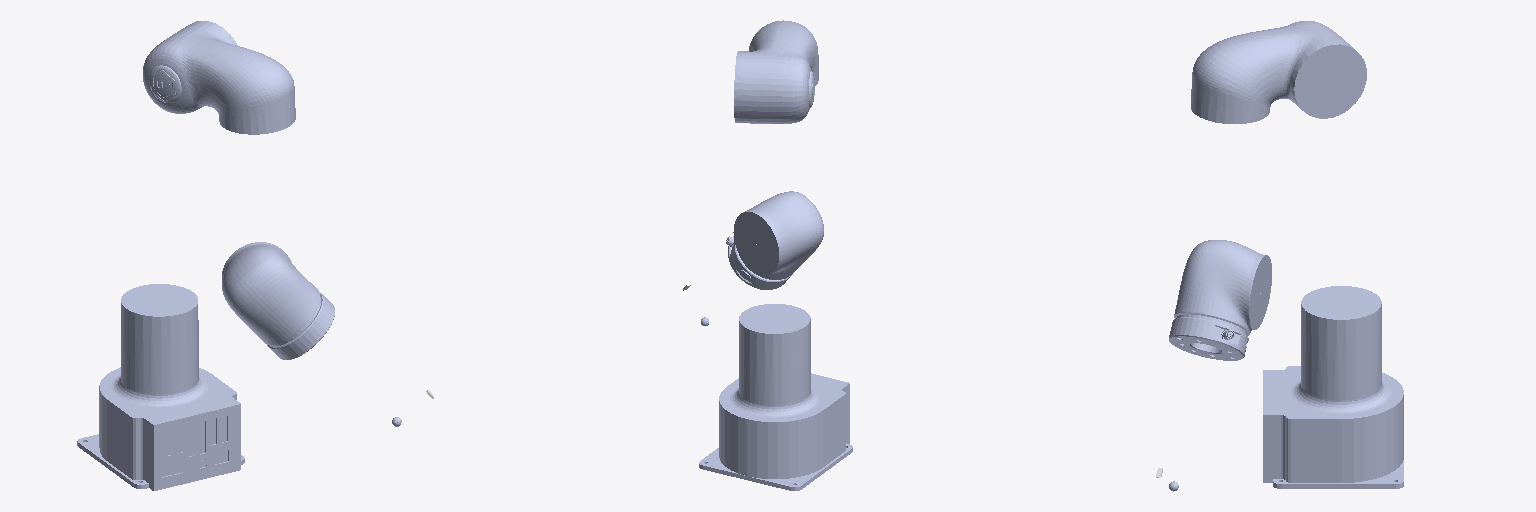
URDF robot description (Lite6SW2):
<?xml version="1.0" encoding="utf-8"?>
<!-- This URDF was automatically created by SolidWorks to URDF Exporter! Originally created by [author] ([email redacted]) 
     Commit Version: 1.6.0-1-g15f4949  Build Version: 1.6.7594.29634
     For more information, please see http://wiki.ros.org/sw_urdf_exporter -->
<robot
  name="Lite6SW2">
  <link
    name="Link0">
    <inertial>
      <origin
        xyz="0.0187322287468848 -6.56268388412886E-05 -0.0018327007667883"
        rpy="0 0 0" />
      <mass
        value="1.65199774001772" />
      <inertia
        ixx="0.00540779041066965"
        ixy="-1.72431674672114E-07"
        ixz="-8.16857492340844E-08"
        iyy="0.0050429459667963"
        iyz="-0.000338002907863305"
        izz="0.00334480903849763" />
    </inertial>
    <visual>
      <origin
        xyz="0 0 0"
        rpy="0 0 0" />
      <geometry>
        <mesh
          filename="package://Lite6SW2/meshes/Link0.STL" />
      </geometry>
      <material
        name="">
        <color
          rgba="0.792156862745098 0.819607843137255 0.933333333333333 1" />
      </material>
    </visual>
    <collision>
      <origin
        xyz="0 0 0"
        rpy="0 0 0" />
      <geometry>
        <mesh
          filename="package://Lite6SW2/meshes/Link0.STL" />
      </geometry>
    </collision>
  </link>
  <link
    name="Link1">
    <inertial>
      <origin
        xyz="0.0151275932238549 0.0579204493545035 2.19551584875691E-06"
        rpy="0 0 0" />
      <mass
        value="0.768991147574956" />
      <inertia
        ixx="0.000943626498667019"
        ixy="-0.000157292714284293"
        ixz="2.15996612593555E-07"
        iyy="0.00109494607083285"
        iyz="-2.22121831785138E-07"
        izz="0.00140822699612183" />
    </inertial>
    <visual>
      <origin
        xyz="0 0 0"
        rpy="0 0 0" />
      <geometry>
        <mesh
          filename="package://Lite6SW2/meshes/Link1.STL" />
      </geometry>
      <material
        name="">
        <color
          rgba="0.792156862745098 0.819607843137255 0.933333333333333 1" />
      </material>
    </visual>
    <collision>
      <origin
        xyz="0 0 0"
        rpy="0 0 0" />
      <geometry>
        <mesh
          filename="package://Lite6SW2/meshes/Link1.STL" />
      </geometry>
    </collision>
  </link>
  <joint
    name="Joint1"
    type="revolute">
    <origin
      xyz="0.01873370459204 0.00814213077337103 0.108012813287898"
      rpy="1.5707963267949 0 0.4446615678785" />
    <parent
      link="Link0" />
    <child
      link="Link1" />
    <axis
      xyz="0 1 0" />
    <limit
      lower="-3.14"
      upper="3.14"
      effort="87"
      velocity="1" />
  </joint>
  <link
    name="Link2">
    <inertial>
      <origin
        xyz="0.0393674312059471 0.114689083476682 -1.16044806437732E-07"
        rpy="0 0 0" />
      <mass
        value="1.07641986433027" />
      <inertia
        ixx="0.00746475214661092"
        ixy="0.000698701711095762"
        ixz="1.87680189054837E-09"
        iyy="0.00101416666242391"
        iyz="2.16807495952089E-08"
        izz="0.0076258806756479" />
    </inertial>
    <visual>
      <origin
        xyz="0 0 0"
        rpy="0 0 0" />
      <geometry>
        <mesh
          filename="package://Lite6SW2/meshes/Link2.STL" />
      </geometry>
      <material
        name="">
        <color
          rgba="0.792156862745098 0.819607843137255 0.933333333333333 1" />
      </material>
    </visual>
    <collision>
      <origin
        xyz="0 0 0"
        rpy="0 0 0" />
      <geometry>
        <mesh
          filename="package://Lite6SW2/meshes/Link2.STL" />
      </geometry>
    </collision>
  </link>
  <joint
    name="Joint2"
    type="revolute">
    <origin
      xyz="0.0634024303578008 0.0700027545007157 0"
      rpy="0.166849117202446 0 0" />
    <parent
      link="Link1" />
    <child
      link="Link2" />
    <axis
      xyz="1 0 0" />
    <limit
      lower="-3.14"
      upper="3.14"
      effort="87"
      velocity="1" />
  </joint>
  <link
    name="Link3">
    <inertial>
      <origin
        xyz="-0.0609958261995253 -0.0374546172672344 -0.000573221171941529"
        rpy="0 0 0" />
      <mass
        value="0.765154285498414" />
      <inertia
        ixx="0.00178429539911025"
        ixy="-9.39526332109624E-05"
        ixz="4.19008160447528E-06"
        iyy="0.000627175753759267"
        iyz="-6.64736636610338E-05"
        izz="0.00183654237180399" />
    </inertial>
    <visual>
      <origin
        xyz="0 0 0"
        rpy="0 0 0" />
      <geometry>
        <mesh
          filename="package://Lite6SW2/meshes/Link3.STL" />
      </geometry>
      <material
        name="">
        <color
          rgba="0.792156862745098 0.819607843137255 0.933333333333333 1" />
      </material>
    </visual>
    <collision>
      <origin
        xyz="0 0 0"
        rpy="0 0 0" />
      <geometry>
        <mesh
          filename="package://Lite6SW2/meshes/Link3.STL" />
      </geometry>
    </collision>
  </link>
  <joint
    name="Joint3"
    type="revolute">
    <origin
      xyz="0 0.199999999987166 0"
      rpy="-1.79231046331988 0 0" />
    <parent
      link="Link2" />
    <child
      link="Link3" />
    <axis
      xyz="1 0 0" />
    <limit
      lower="-3.14"
      upper="3.14"
      effort="87"
      velocity="1" />
  </joint>
  <link
    name="Link4">
    <inertial>
      <origin
        xyz="0.0251920501140432 -6.41817619190244E-07 -0.0959447863668743"
        rpy="0 0 0" />
      <mass
        value="1.19946358045584" />
      <inertia
        ixx="0.00242244309778775"
        ixy="-2.18181320849249E-08"
        ixz="0.000758521584574718"
        iyy="0.00315206957190798"
        iyz="2.52477601872585E-09"
        izz="0.00172762941740964" />
    </inertial>
    <visual>
      <origin
        xyz="0 0 0"
        rpy="0 0 0" />
      <geometry>
        <mesh
          filename="package://Lite6SW2/meshes/Link4.STL" />
      </geometry>
      <material
        name="">
        <color
          rgba="0.792156862745098 0.819607843137255 0.933333333333333 1" />
      </material>
    </visual>
    <collision>
      <origin
        xyz="0 0 0"
        rpy="0 0 0" />
      <geometry>
        <mesh
          filename="package://Lite6SW2/meshes/Link4.STL" />
      </geometry>
    </collision>
  </link>
  <joint
    name="Joint4"
    type="revolute">
    <origin
      xyz="-0.063102409341005 -0.0870000000340598 -0.0367635042013723"
      rpy="0 0 0.821810771980739" />
    <parent
      link="Link3" />
    <child
      link="Link4" />
    <axis
      xyz="0 0 1" />
    <limit
      lower="-3.14"
      upper="3.14"
      effort="87"
      velocity="1" />
  </joint>
  <link
    name="Link5">
    <inertial>
      <origin
        xyz="0.00343463057873998 -1.97179458061303E-06 -0.00164401922371229"
        rpy="0 0 0" />
      <mass
        value="0.407452669039166" />
      <inertia
        ixx="0.000358680591599888"
        ixy="-1.00900293705433E-08"
        ixz="-6.27685977104768E-06"
        iyy="0.000380454223401458"
        iyz="9.57050468134867E-09"
        izz="0.000334589727767483" />
    </inertial>
    <visual>
      <origin
        xyz="0 0 0"
        rpy="0 0 0" />
      <geometry>
        <mesh
          filename="package://Lite6SW2/meshes/Link5.STL" />
      </geometry>
      <material
        name="">
        <color
          rgba="0.792156862745098 0.819607843137255 0.933333333333333 1" />
      </material>
    </visual>
    <collision>
      <origin
        xyz="0 0 0"
        rpy="0 0 0" />
      <geometry>
        <mesh
          filename="package://Lite6SW2/meshes/Link5.STL" />
      </geometry>
    </collision>
  </link>
  <joint
    name="Joint5"
    type="revolute">
    <origin
      xyz="0 0 -0.190346492889003"
      rpy="-0.670253176766057 0 0" />
    <parent
      link="Link4" />
    <child
      link="Link5" />
    <axis
      xyz="1 0 0" />
    <limit
      lower="-3.14"
      upper="3.14"
      effort="12"
      velocity="1" />
  </joint>
  <link
    name="Link6">
    <inertial>
      <origin
        xyz="-0.000205287529503467 -0.000431985584820965 -0.0521159158328269"
        rpy="0 0 0" />
      <mass
        value="0.0844258078209592" />
      <inertia
        ixx="3.65814863001815E-05"
        ixy="-2.96217183969856E-08"
        ixz="3.62773534330074E-08"
        iyy="3.631438997443E-05"
        iyz="-6.16706110817399E-08"
        izz="6.56234046220339E-05" />
    </inertial>
    <visual>
      <origin
        xyz="0 0 0"
        rpy="0 0 0" />
      <geometry>
        <mesh
          filename="package://Lite6SW2/meshes/Link6.STL" />
      </geometry>
      <material
        name="">
        <color
          rgba="0.792156862745098 0.819607843137255 0.933333333333333 1" />
      </material>
    </visual>
    <collision>
      <origin
        xyz="0 0 0"
        rpy="0 0 0" />
      <geometry>
        <mesh
          filename="package://Lite6SW2/meshes/Link6.STL" />
      </geometry>
    </collision>
  </link>
  <joint
    name="Joint6"
    type="revolute">
    <origin
      xyz="0 0 0"
      rpy="0 0 2.30520604102373" />
    <parent
      link="Link5" />
    <child
      link="Link6" />
    <axis
      xyz="0 0 1" />
    <limit
      lower="-3.14"
      upper="3.14"
      effort="12"
      velocity="1" />
  </joint>
  <link
    name="Link_hand">
    <inertial>
      <origin
        xyz="0.0108713499627958 0.124749513433011 0.161319806956366"
        rpy="0 0 0" />
      <mass
        value="2.83243689369596E-05" />
      <inertia
        ixx="2.6242801210731E-08"
        ixy="2.44461258450615E-10"
        ixz="-1.93357940811343E-10"
        iyy="3.26967390920057E-08"
        iyz="1.55614561490651E-09"
        izz="5.63666155419609E-08" />
    </inertial>
    <visual>
      <origin
        xyz="0 0 0"
        rpy="0 0 0" />
      <geometry>
        <mesh
          filename="package://Lite6SW2/meshes/Link_hand.STL" />
      </geometry>
      <material
        name="">
        <color
          rgba="0.776470588235294 0.756862745098039 0.737254901960784 1" />
      </material>
    </visual>
    <collision>
      <origin
        xyz="0 0 0"
        rpy="0 0 0" />
      <geometry>
        <mesh
          filename="package://Lite6SW2/meshes/Link_hand.STL" />
      </geometry>
    </collision>
  </link>
  <joint
    name="Jointhand"
    type="fixed">
    <origin
      xyz="-0.14399 -0.11062 -0.0009206"
      rpy="-1.5708 0 -0.85704" />
    <parent
      link="Link6" />
    <child
      link="Link_hand" />
    <axis
      xyz="0 0 0" />
    <limit
      lower="0"
      effort="0"
      velocity="0" />
  </joint>
  <link
    name="F1">
    <inertial>
      <origin
        xyz="-0.051842 0.1974 0.18027"
        rpy="0 0 0" />
      <mass
        value="0.021571" />
      <inertia
        ixx="6.777E-06"
        ixy="-1.3957E-06"
        ixz="-6.2093E-12"
        iyy="1.9659E-06"
        iyz="-5.4282E-12"
        izz="6.4615E-06" />
    </inertial>
    <visual>
      <origin
        xyz="0 0 0"
        rpy="0 0 0" />
      <geometry>
        <mesh
          filename="package://Lite6SW2/meshes/F1.STL" />
      </geometry>
      <material
        name="">
        <color
          rgba="0.49804 0.49804 0.49804 1" />
      </material>
    </visual>
    <collision>
      <origin
        xyz="0 0 0"
        rpy="0 0 0" />
      <geometry>
        <mesh
          filename="package://Lite6SW2/meshes/F1.STL" />
      </geometry>
    </collision>
  </link>
  <joint
    name="Joint_f1"
    type="prismatic">
    <origin
      xyz="0.01 0 0"
      rpy="0 0 0" />
    <parent
      link="Link_hand" />
    <child
      link="F1" />
    <axis
      xyz="1 0 0" />
    <limit
      lower="0"
      upper="0.04"
      effort="200"
      velocity="0.1" />
    <dynamics
      friction="1" damping="10.0" />
  </joint>
  <link
    name="F1point">
    <inertial>
      <origin
        xyz="4.35484981409218E-14 -6.43846087555744E-13 0.00100000000035735"
        rpy="0 0 0" />
      <mass
        value="0.0001" />
      <inertia
        ixx="2.41666666666667E-10"
        ixy="-3.42504472385238E-25"
        ixz="8.17487089749672E-25"
        iyy="8.66666666666669E-10"
        iyz="-1.43732971188745E-21"
        izz="1.04166666666667E-09" />
    </inertial>
    <visual>
      <origin
        xyz="0 0 0"
        rpy="0 0 0" />
      <geometry>
        <mesh
          filename="package://Lite6SW2/meshes/F1point.STL" />
      </geometry>
      <material
        name="">
        <color
          rgba="1 1 1 1" />
      </material>
    </visual>
    <collision>
      <geometry>
        <box size="0.013 0.013 0.004"/>
      </geometry>
    </collision>
  </link>
  <joint
    name="f1_pjoint"
    type="fixed">
    <origin
      xyz="-0.0437490031135737 0.208719338742205 0.180271456819914"
      rpy="1.5707963267949 0 -1.5707963267949" />
    <parent
      link="F1" />
    <child
      link="F1point" />
    <axis
      xyz="0 0 0" />
  </joint>
  <link
    name="F2">
    <inertial>
      <origin
        xyz="0.052983 0.1974 0.18027"
        rpy="0 0 0" />
      <mass
        value="0.021571" />
      <inertia
        ixx="6.7769E-06"
        ixy="1.3956E-06"
        ixz="5.3583E-12"
        iyy="1.9659E-06"
        iyz="-8.9468E-13"
        izz="6.4615E-06" />
    </inertial>
    <visual>
      <origin
        xyz="0 0 0"
        rpy="0 0 0" />
      <geometry>
        <mesh
          filename="package://Lite6SW2/meshes/F2.STL" />
      </geometry>
      <material
        name="">
        <color
          rgba="0.49804 0.49804 0.49804 1" />
      </material>
    </visual>
    <collision>
      <origin
        xyz="0 0 0"
        rpy="0 0 0" />
      <geometry>
        <mesh
          filename="package://Lite6SW2/meshes/F2.STL" />
      </geometry>
    </collision>
  </link>
  <joint
    name="Joint_f2"
    type="prismatic">
    <origin
      xyz="0.01 0 0"
      rpy="0 0 0" />
    <parent
      link="Link_hand" />
    <child
      link="F2" />
    <axis
      xyz="-1 0 0" />
    <limit
      lower="0"
      upper="0.04"
      effort="200"
      velocity="0.1" />
    <dynamics
       damping="10.0" />
    <mimic
      joint="Joint_f1"
      multiplier="1"
      offset="0" />
  </joint>
  <link
    name="F2point">
    <inertial>
      <origin
        xyz="4.3493E-14 -1.0085E-13 0.001"
        rpy="0 0 0" />
      <mass
        value="0.0001" />
      <inertia
        ixx="2.4167E-10"
        ixy="6.3008E-25"
        ixz="-1.3086E-25"
        iyy="8.6667E-10"
        iyz="-1.4375E-21"
        izz="1.0417E-09" />
    </inertial>
    <visual>
      <origin
        xyz="0 0 0"
        rpy="0 0 0" />
      <geometry>
        <mesh
          filename="package://Lite6SW2/meshes/F2point.STL" />
      </geometry>
      <material
        name="">
        <color
          rgba="1 1 1 1" />
      </material>
    </visual>
    <collision>
      <geometry>
        <box size="0.013 0.013 0.004"/>
      </geometry>
    </collision>
  </link>
  <joint
    name="f2_pjoint"
    type="fixed">
    <origin
      xyz="0.0448895317964781 0.208719338742198 0.180271456819914"
      rpy="-1.5707963267949 0 -1.57079632679494" />
    <parent
      link="F2" />
    <child
      link="F2point" />
    <axis
      xyz="0 0 0" />
  </joint>
  <link
    name="GripSite">
    <inertial>
      <origin
        xyz="-0.0029855 0.0036098 -0.0012806"
        rpy="0 0 0" />
      <mass
        value="0.0005236" />
      <inertia
        ixx="5.236E-09"
        ixy="-1.9387E-26"
        ixz="-5.1699E-26"
        iyy="5.236E-09"
        iyz="-7.7548E-26"
        izz="5.236E-09" />
    </inertial>
    <visual>
      <origin
        xyz="0 0 0"
        rpy="0 0 0" />
      <geometry>
        <mesh
          filename="package://Lite6SW2/meshes/GripSite.STL" />
      </geometry>
      <material
        name="">
        <color
          rgba="0.79216 0.81961 0.93333 1" />
      </material>
    </visual>
  </link>
  <joint
    name="gripjoint"
    type="fixed">
    <origin
      xyz="0.010713 0.21358 0.18077"
      rpy="-0.12166 0.51995 2.3544" />
    <parent
      link="Link_hand" />
    <child
      link="GripSite" />
    <axis
      xyz="0 0 0" />
  </joint>
</robot>

--- Facts derived from the render (not from the file) ---
The picture shows the robot from 3 angles, left to right: view 1: azimuth 30°, elevation 25°; view 2: azimuth 150°, elevation 25°; view 3: azimuth 270°, elevation 25°; orthographic projection.
Robot: Lite6SW2 — 13 links, 12 joints (6 revolute, 2 prismatic, 4 fixed); root link Link0; default pose: every joint at zero.
Visible links, largest first — view 1: Link0, Link3, Link5, Link6; view 2: Link0, Link3, Link5, Link6; view 3: Link0, Link3, Link5, Link6.
Boxes of the visible links, box(x1,y1,x2,y2) form: Link0: box(77, 284, 244, 490); Link3: box(143, 21, 295, 134); Link5: box(222, 242, 320, 345); Link6: box(267, 293, 334, 359); Link0: box(699, 304, 852, 490); Link3: box(734, 20, 818, 123); Link5: box(733, 191, 823, 279); Link6: box(726, 236, 792, 289); Link0: box(1263, 286, 1403, 488); Link3: box(1191, 21, 1366, 123); Link5: box(1174, 240, 1271, 335); Link6: box(1169, 314, 1248, 360).
Bounding box of the posed robot: 0.2868 × 0.2458 × 0.4819 m (x, y, z).
Meshes: 13 distinct files referenced, 6 mesh visuals loaded (6 binary STL); not drawn: 7 (reference not matched to a file when rendering).